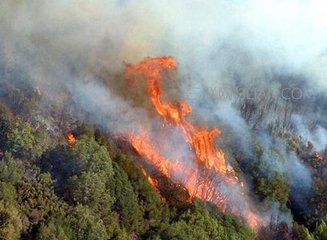fire: (110, 54, 262, 227), (66, 129, 75, 146)
smoke: (0, 1, 327, 127), (122, 108, 325, 233)
